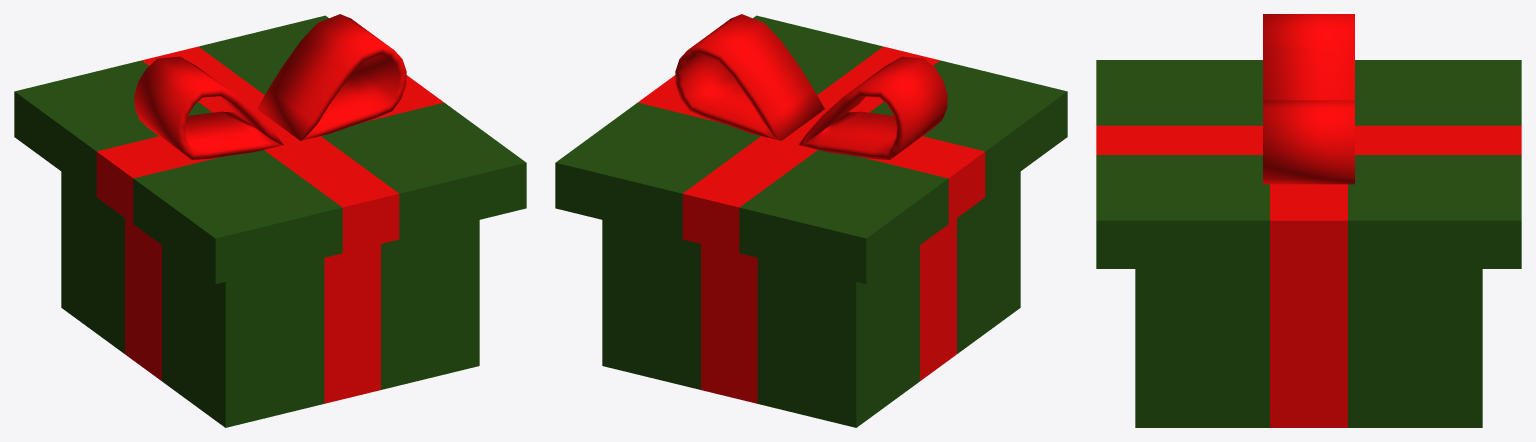
Rendered from REGALO 1.fbx.
3 renders of one model, left to right at view 1: azimuth 30°, elevation 25°; view 2: azimuth 150°, elevation 25°; view 3: azimuth 270°, elevation 25°, orthographic. The views are drawn at different scales.
Visible parts, largest first — view 1: Regalo.001; view 2: Regalo.001; view 3: Regalo.001.
Boxes of the visible parts, bbox=[...] form: Regalo.001: bbox=[14, 14, 526, 427]; Regalo.001: bbox=[555, 14, 1067, 427]; Regalo.001: bbox=[1096, 14, 1521, 427].
Size of the model in its own units: 796 by 696 by 891.
